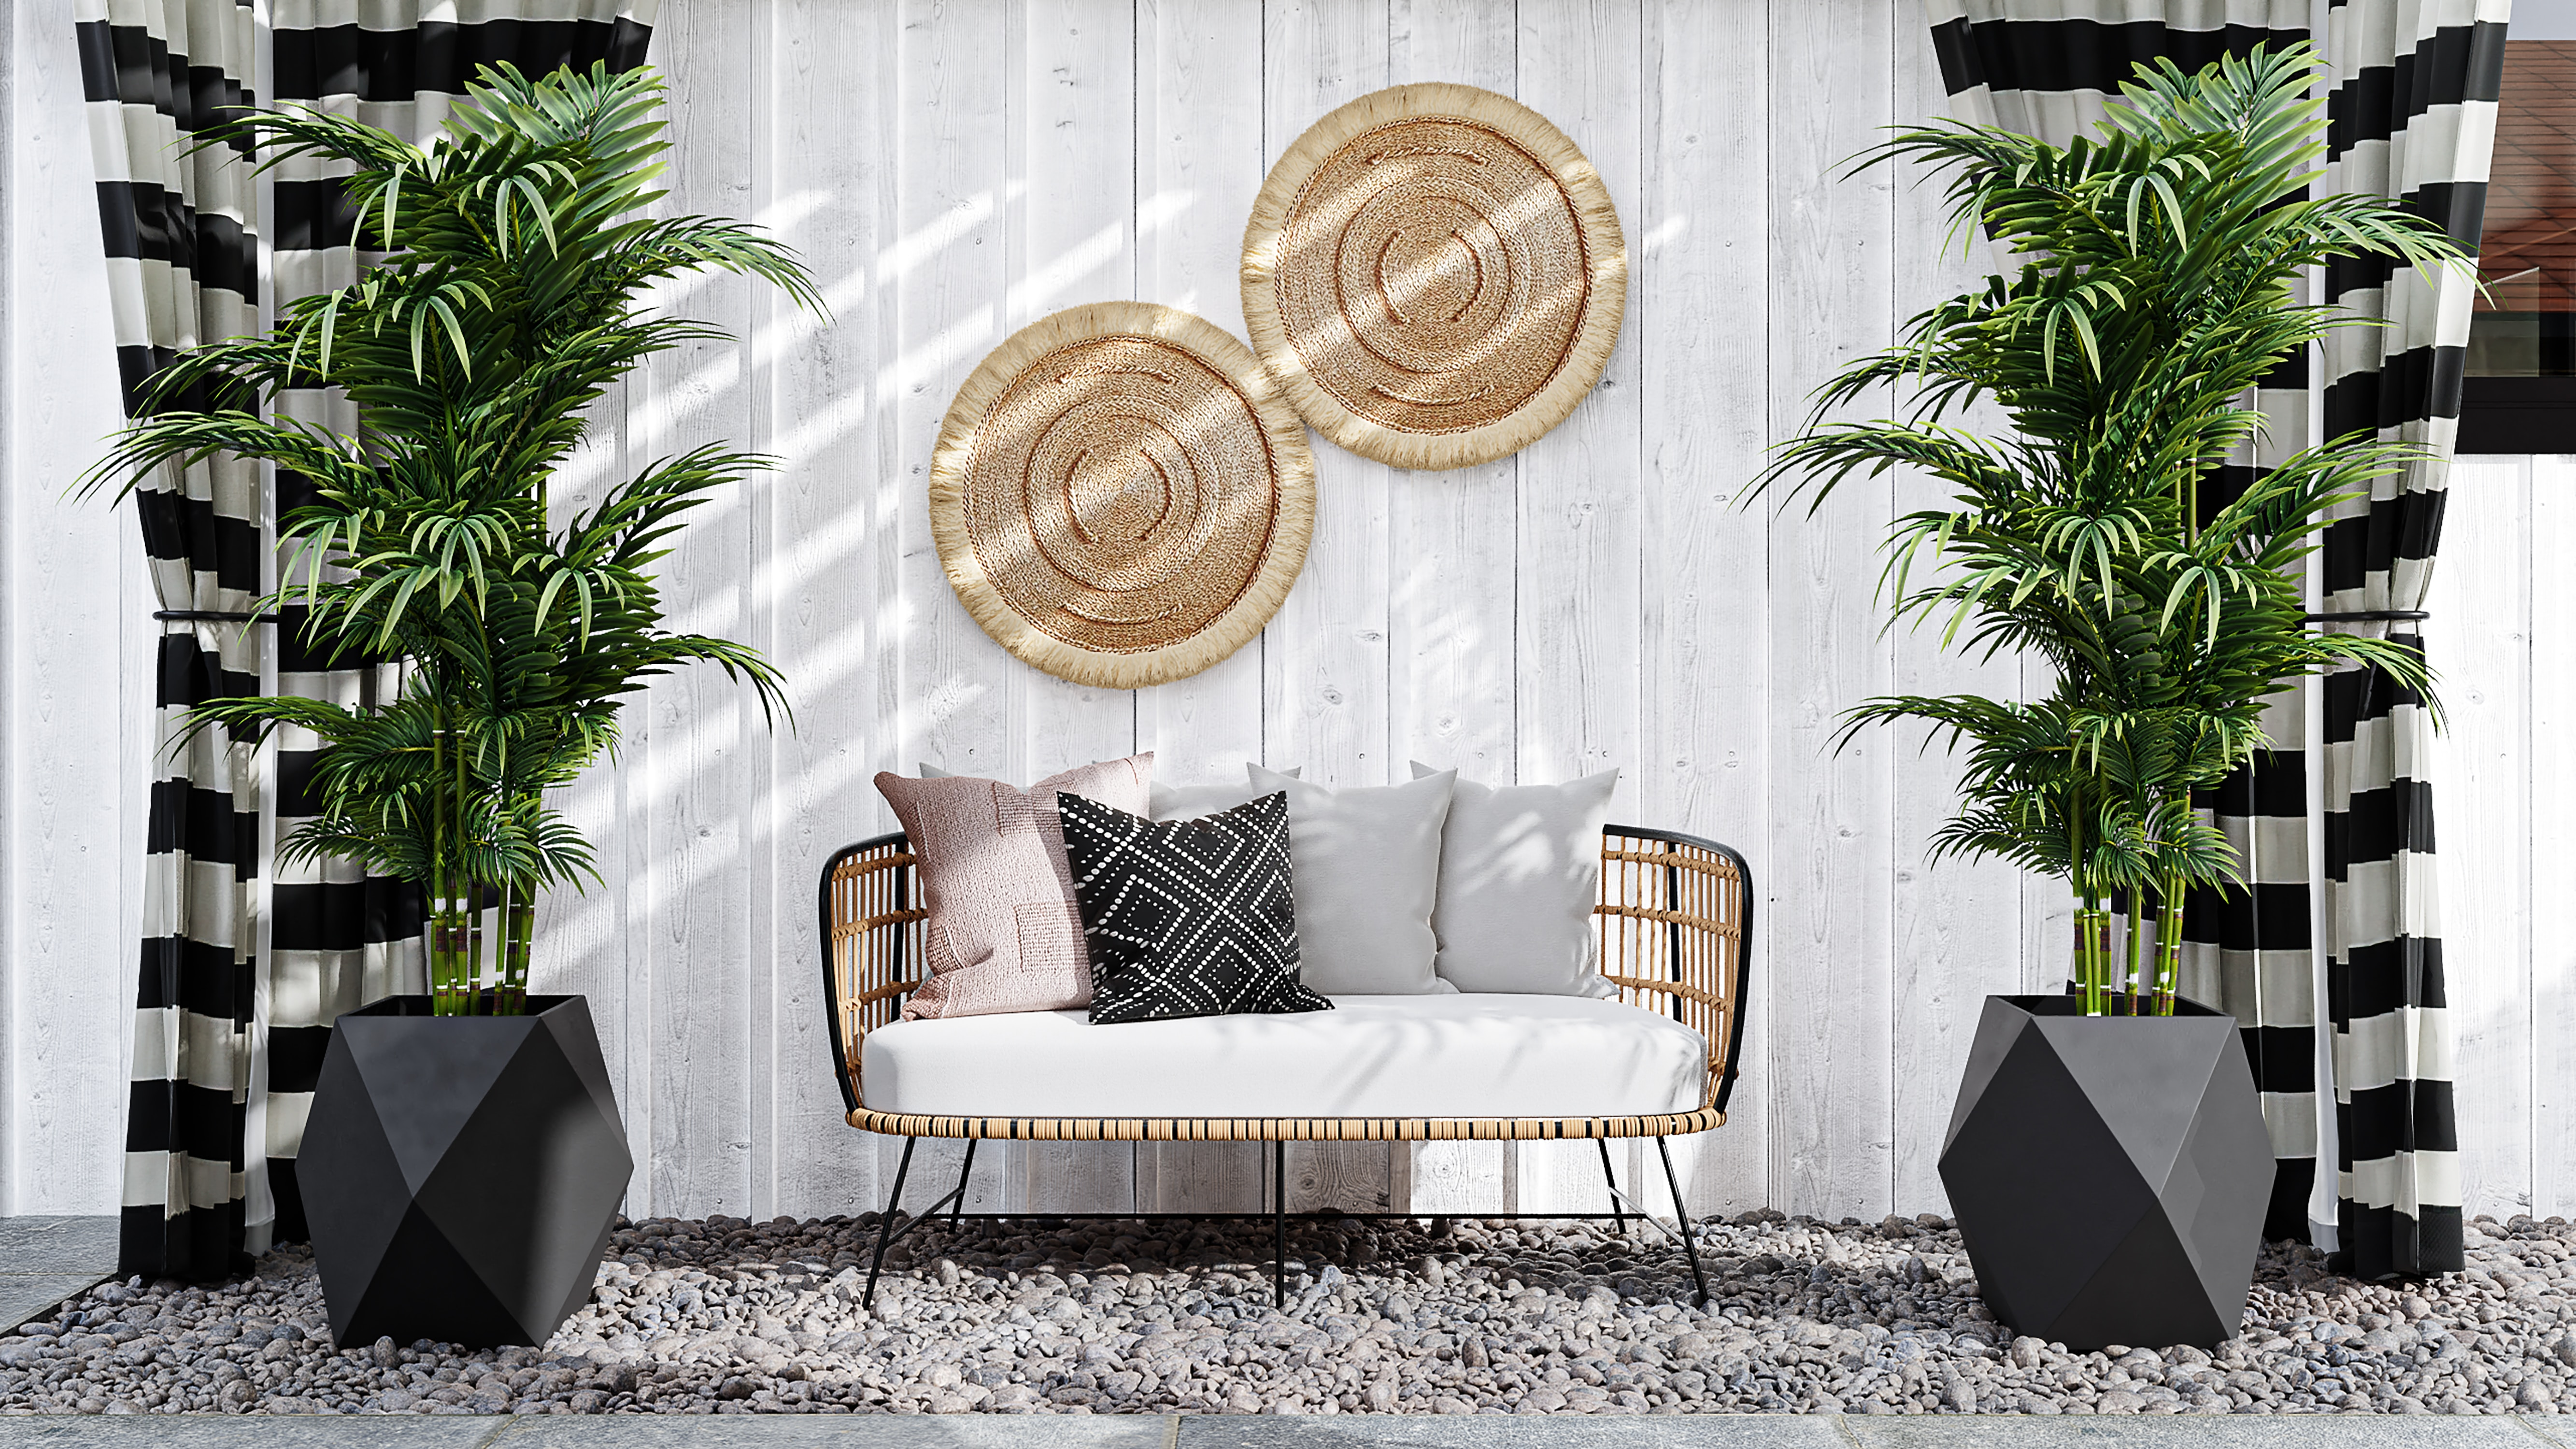Painting: (1242, 57, 1647, 495), (922, 290, 1338, 699)
Plant: (1741, 27, 2500, 1371), (172, 39, 832, 1389)
Sofa: (810, 738, 1767, 1311)
